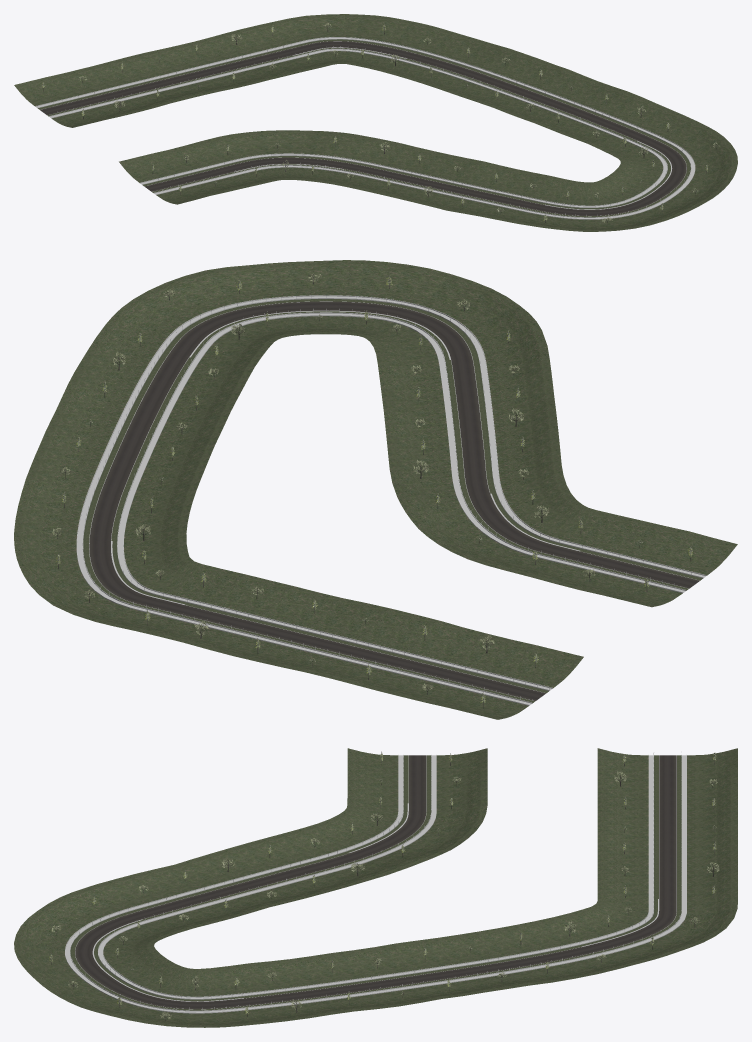
3 renders of one model, top to bottom at view 1: azimuth 30°, elevation 25°; view 2: azimuth 150°, elevation 25°; view 3: azimuth 270°, elevation 25°, orthographic. The views are drawn at different scales.
Visible parts, largest first — view 1: Grass, Track, Road, Trees; view 2: Grass, Road, Track, Trees; view 3: Grass, Road, Track, Trees.
Boxes of the visible parts, box(x1,y1,x2,y2) form: Grass: box(14, 14, 737, 231); Track: box(35, 37, 695, 219); Road: box(40, 41, 686, 215); Trees: box(42, 23, 719, 223); Grass: box(14, 260, 737, 719); Road: box(89, 301, 699, 700); Track: box(76, 295, 706, 705); Trees: box(52, 273, 692, 708); Grass: box(14, 748, 737, 1027); Road: box(75, 755, 676, 1009); Track: box(65, 753, 686, 1013); Trees: box(49, 751, 719, 1020).
Size of the model in its own units: 66091 by 1976 by 72311.
